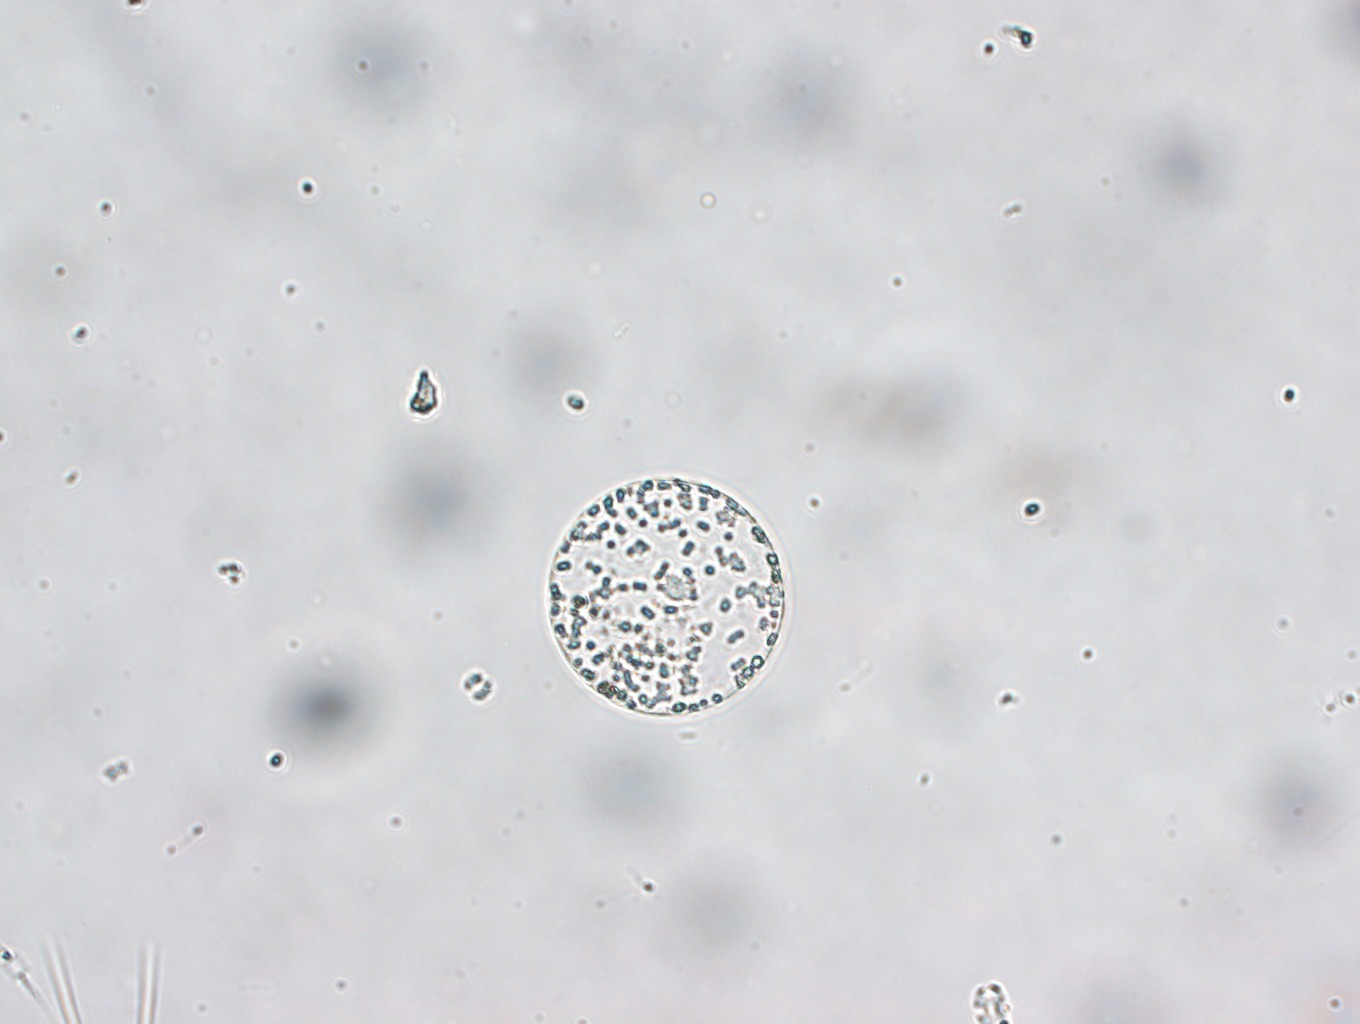coscinodiscus: (549, 477, 785, 714)
